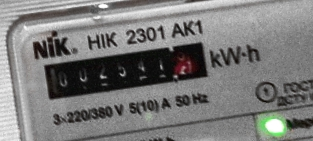0: (54, 65, 70, 88), (74, 61, 89, 83)
1: (153, 51, 166, 72)
2: (94, 59, 109, 80)
4: (134, 53, 149, 75)
5: (113, 55, 128, 79)
6: (176, 60, 189, 76)
screen: (32, 30, 220, 109)
